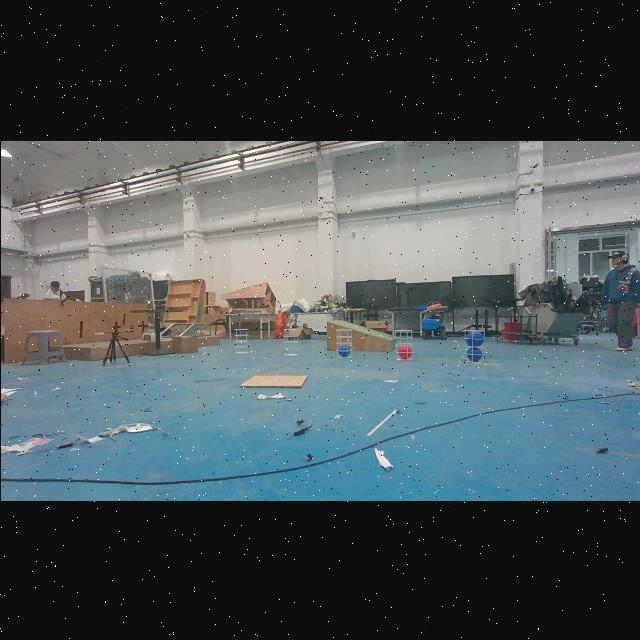B: (465, 330, 483, 346), (466, 348, 482, 360), (338, 344, 348, 356)
R: (396, 346, 412, 358)
S: (460, 326, 488, 364), (392, 328, 416, 362), (332, 326, 356, 359), (280, 326, 302, 356), (230, 326, 250, 354)
